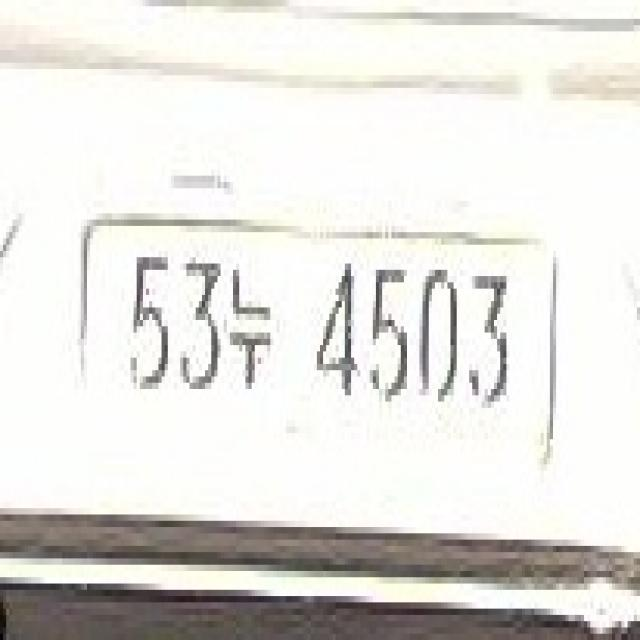0: (407, 251, 466, 427)
3: (469, 257, 513, 414), (183, 232, 224, 395)
4: (310, 257, 372, 402)
5: (121, 245, 180, 389), (367, 263, 416, 408)
license_plate: (81, 194, 562, 470)
nu: (227, 251, 276, 389)
